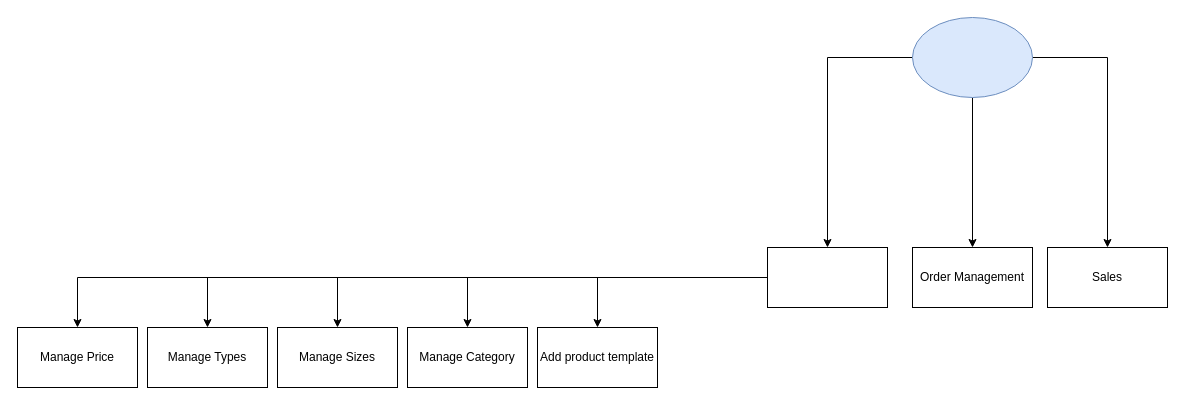
The diagram is 1185 pixels wide and 405 high, and some of its shapes have lost their labels. The centre of each missing label's shape, as x and y in pixels:
"Manage Products" goes at point (827, 277).
"Start" goes at point (972, 57).
